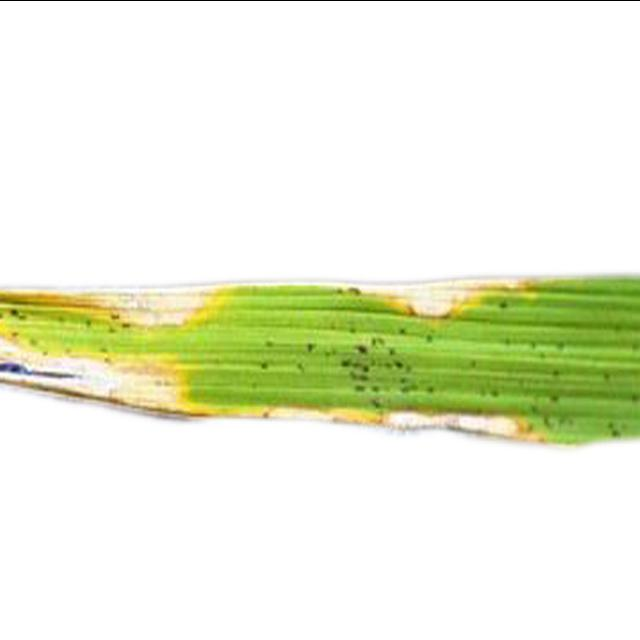Leaf scald: (0, 240, 640, 500)
